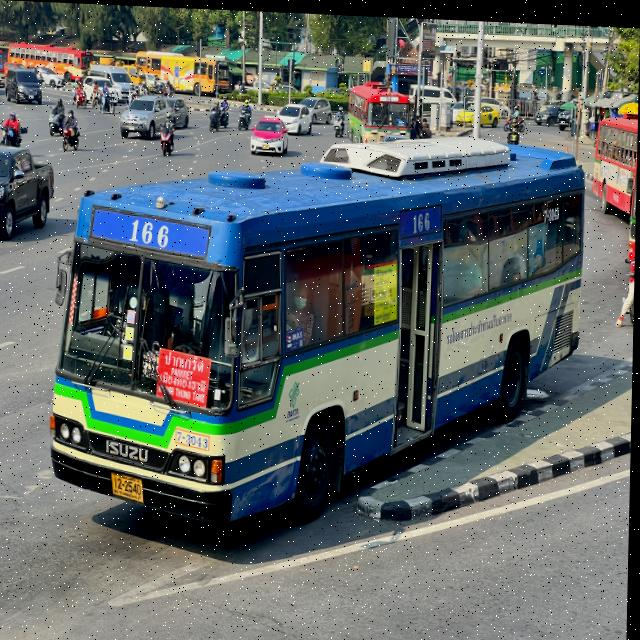BMTA-bus: (48, 121, 587, 537), (588, 93, 639, 230), (349, 73, 414, 145)
Bus-Line-Number: (127, 214, 173, 248)
Destination-Sign-Extra-Bus: (158, 346, 211, 407)
